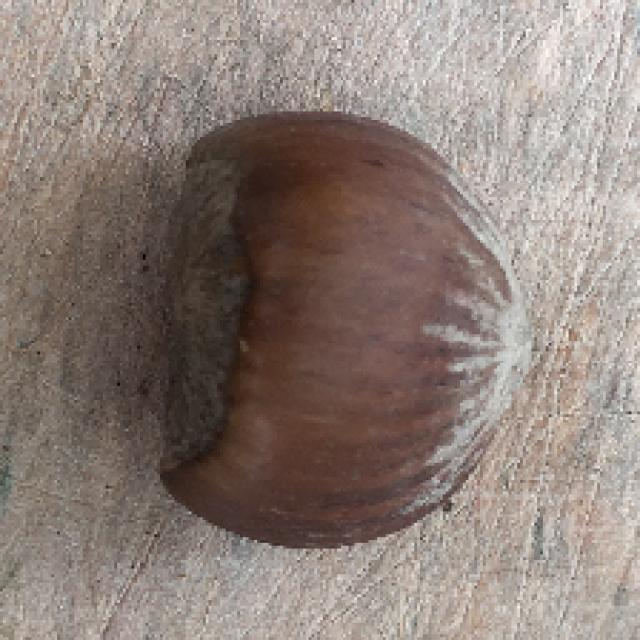qualityHazelnut: (116, 106, 542, 550)
